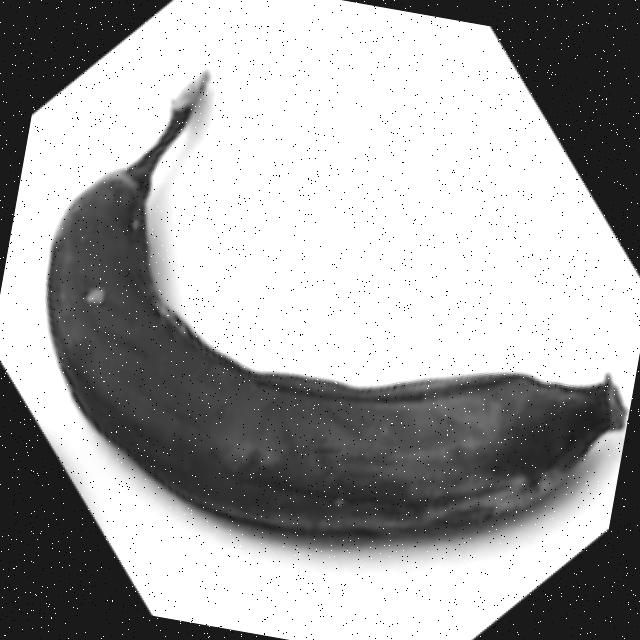Rotten: (6, 45, 640, 594)
